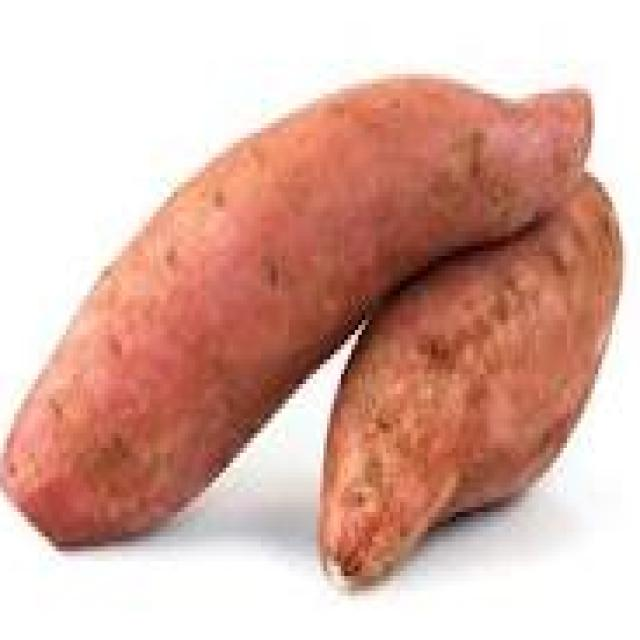sweet potato: (0, 59, 633, 596)
